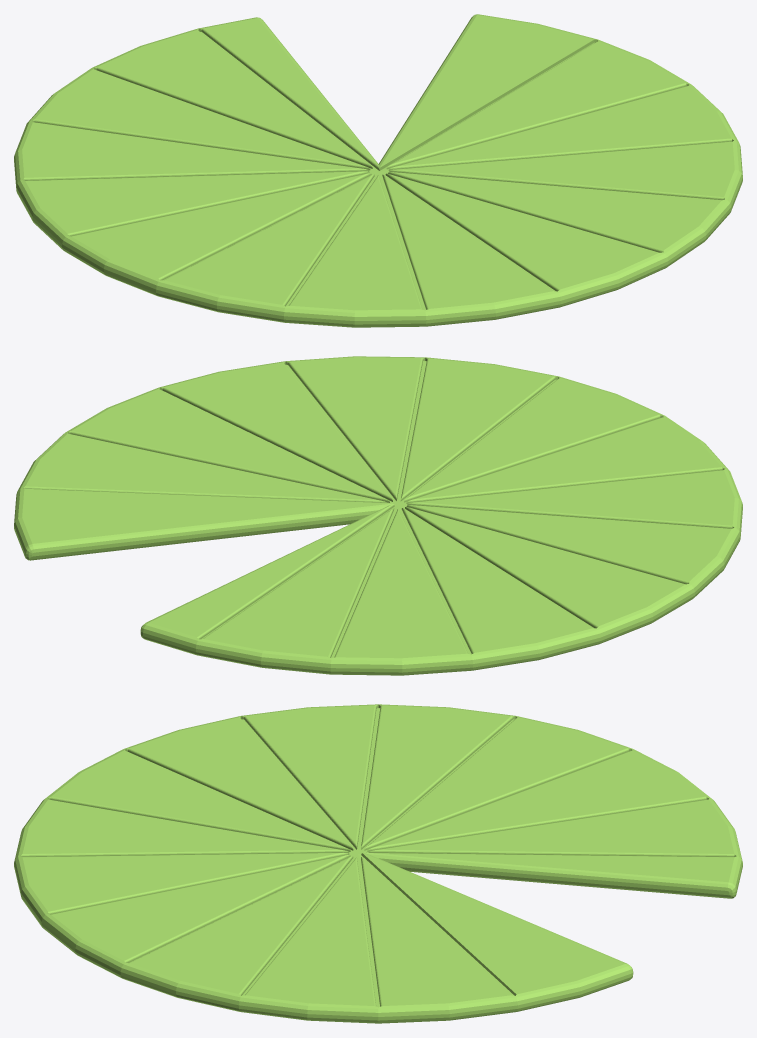
Rendered from Lilypad.fbx.
The picture shows the model from 3 angles, top to bottom: view 1: azimuth 30°, elevation 25°; view 2: azimuth 150°, elevation 25°; view 3: azimuth 270°, elevation 25°; orthographic projection.
Visible parts, largest first — view 1: Cube; view 2: Cube; view 3: Cube.
Boxes of the visible parts, <box> form: Cube: <box>14,14,742,327</box>; Cube: <box>14,356,742,675</box>; Cube: <box>14,704,742,1023</box>.
Size of the model in its own units: 400 by 9.51 by 400.
